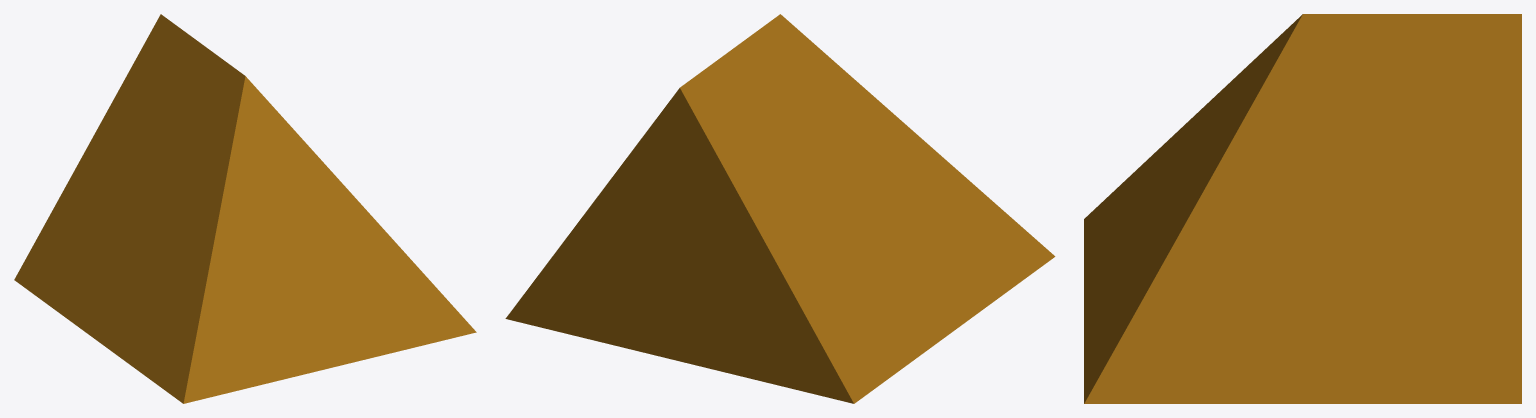
File: Roof-Steep-4x4x3-Hip-End-Half-Ridge.FBX
3 views of the same model, side by side, from view 1: azimuth 30°, elevation 25°; view 2: azimuth 150°, elevation 25°; view 3: azimuth 270°, elevation 25° (orthographic). The views are drawn at different scales.
Visible parts, largest first — view 1: Roof-Steep-4x4x3-Hip-End-Half-Ridge; view 2: Roof-Steep-4x4x3-Hip-End-Half-Ridge; view 3: Roof-Steep-4x4x3-Hip-End-Half-Ridge.
Part boxes in pixels (<box>): Roof-Steep-4x4x3-Hip-End-Half-Ridge: <box>14,14,476,403</box>; Roof-Steep-4x4x3-Hip-End-Half-Ridge: <box>505,14,1055,403</box>; Roof-Steep-4x4x3-Hip-End-Half-Ridge: <box>1084,14,1521,403</box>.
Bounding box in the file's own units: 40 × 40 × 30.
